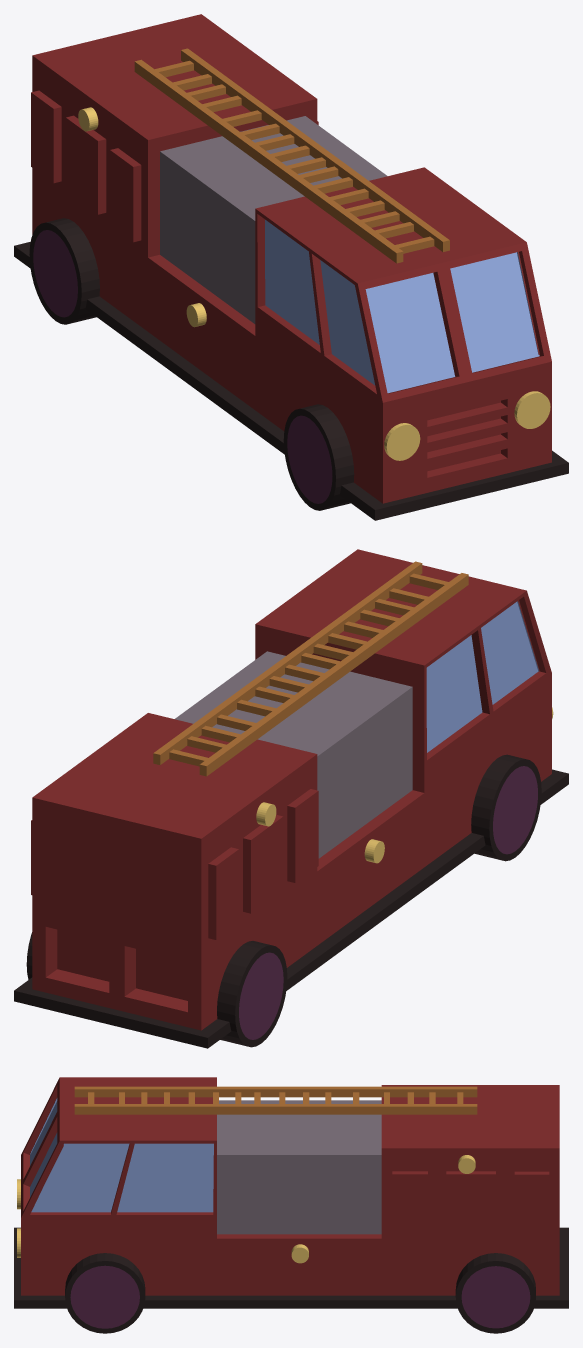
The model's file is Firetruck.glb.
3 renders of one model, top to bottom at view 1: azimuth 30°, elevation 25°; view 2: azimuth 150°, elevation 25°; view 3: azimuth 270°, elevation 25°, orthographic. The views are drawn at different scales.
Visible parts, largest first — view 1: Cube, Cube.002, Cube.003, Cube.001, Cylinder.005, Cylinder.004, Cylinder, Cylinder.001; view 2: Cube, Cube.002, Cube.003, Cube.001, Cylinder.005, Cylinder.004; view 3: Cube, Cube.002, Cube.003, Cube.001, Cylinder.004, Cylinder.005.
Boxes of the visible parts, x1,y1,x2,y2 form: Cube: [31, 14, 551, 503]; Cube.002: [160, 116, 387, 323]; Cube.003: [134, 48, 449, 263]; Cube.001: [14, 242, 568, 520]; Cylinder.005: [29, 218, 99, 324]; Cylinder.004: [283, 404, 354, 510]; Cylinder: [514, 391, 550, 428]; Cylinder.001: [384, 423, 420, 460]; Cube: [31, 549, 551, 1030]; Cube.002: [174, 651, 412, 858]; Cube.003: [153, 561, 468, 776]; Cube.001: [14, 769, 568, 1048]; Cylinder.005: [26, 932, 287, 1047]; Cylinder.004: [471, 754, 541, 861]; Cube: [21, 1077, 559, 1295]; Cube.002: [217, 1100, 381, 1234]; Cube.003: [74, 1086, 477, 1114]; Cube.001: [14, 1227, 568, 1308]; Cylinder.004: [65, 1253, 145, 1333]; Cylinder.005: [455, 1253, 535, 1333].
Size of the model in its own units: 2.86 by 3.31 by 8.6.
